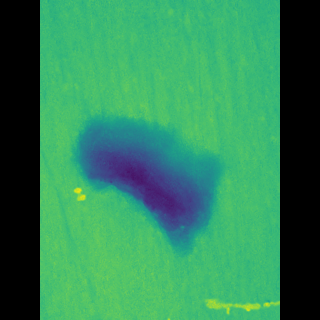Loch: (93, 115, 208, 263), (191, 286, 250, 316)
